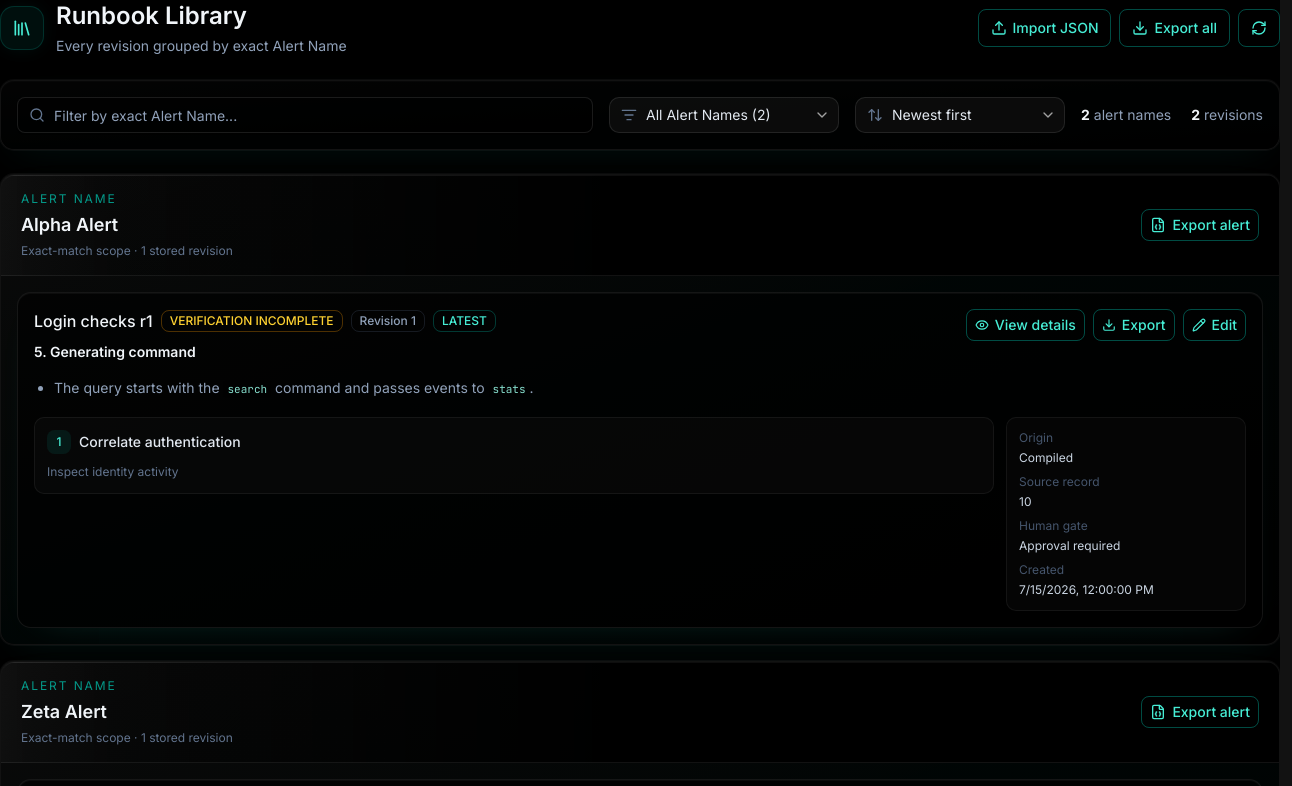
RunbookLibraryContent › sorts alert groups and keeps revision cards on a neutral black background
expect the heading "Alpha Alert" is shown: met, box [21,214,118,235]
expect the headings read "Alpha Alert", "Zeta Alert", in this order: met, box [21,214,118,235]; [21,701,107,722]
Step 1. Click the dropdown named "Sort runbooks" → x=960, y=115, box [855,97,1065,133]
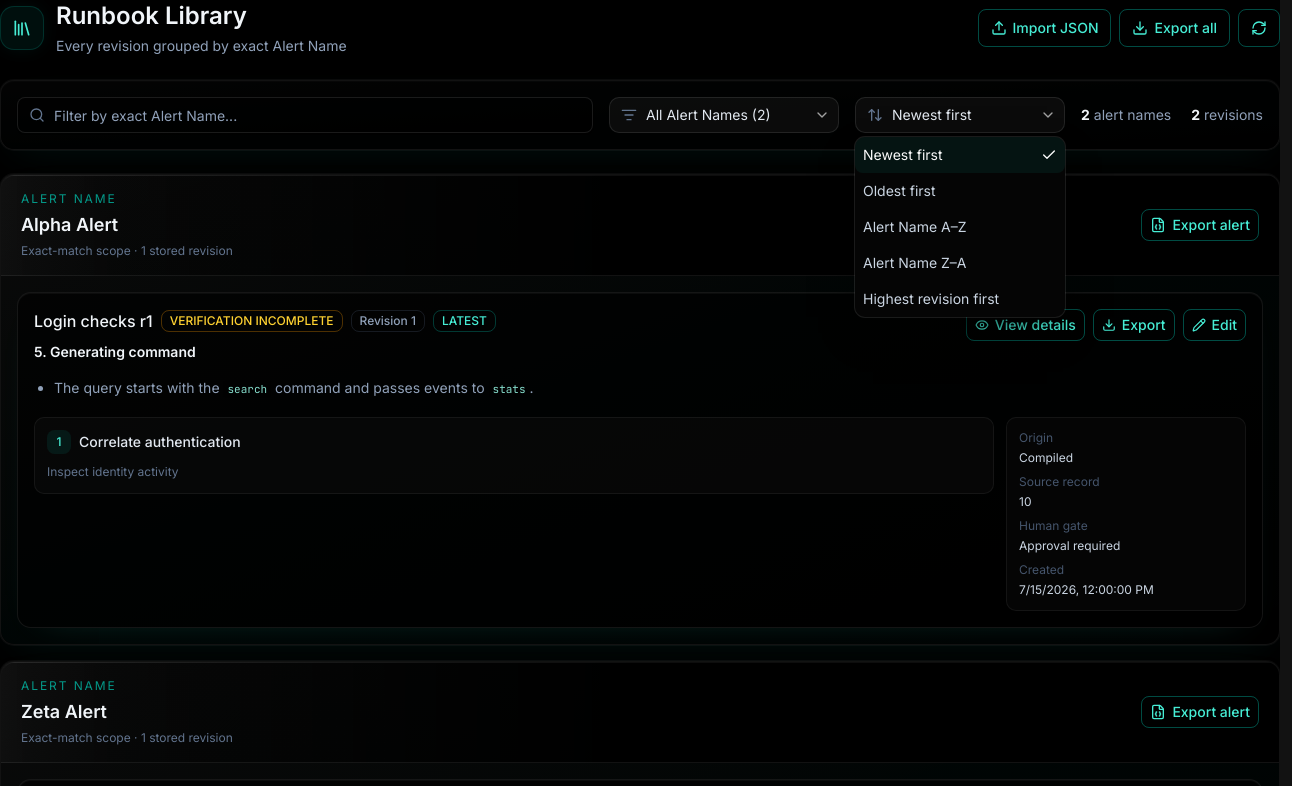
Step 2. Click the option "Alert Name Z–A" → x=915, y=262, box [863,254,966,271]
(page scrolled)
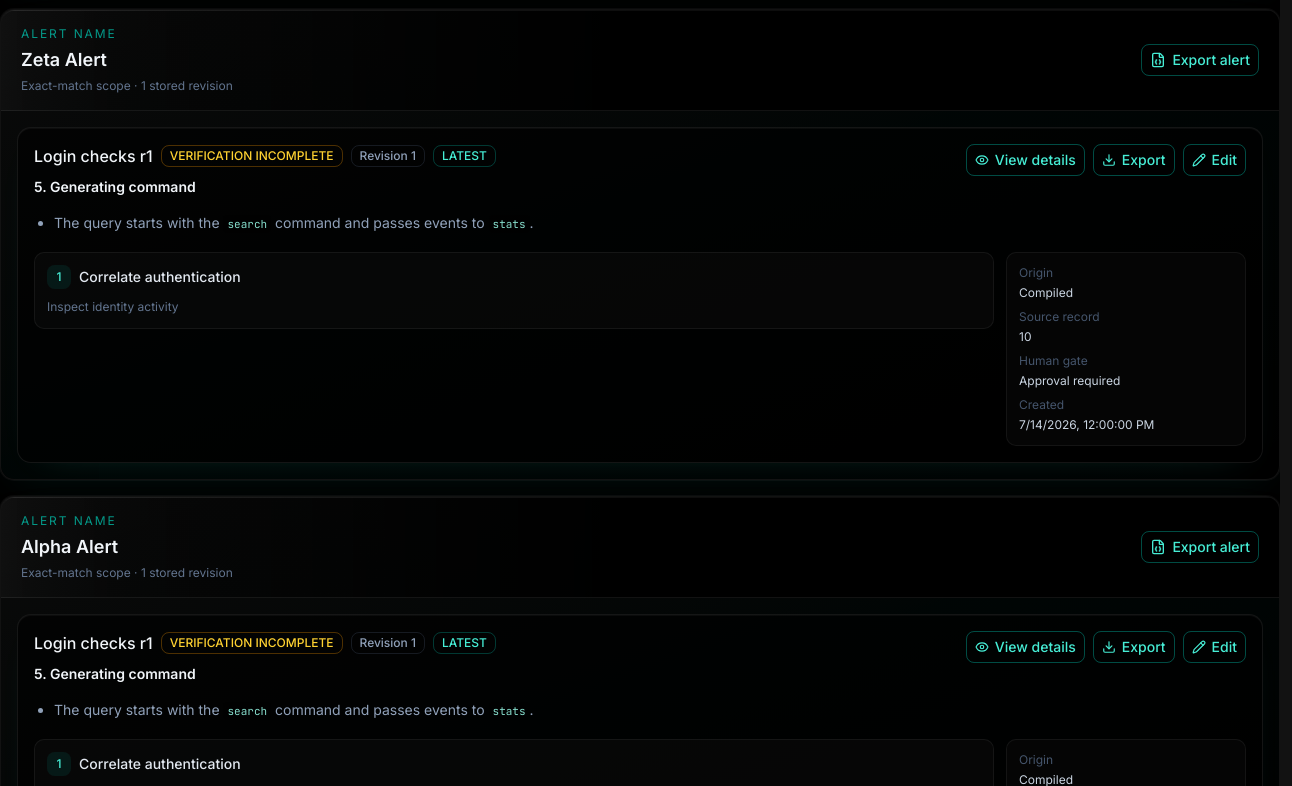
expect the headings read "Zeta Alert", "Alpha Alert", in this order: met, box [21,49,107,70]; [21,536,118,557]
